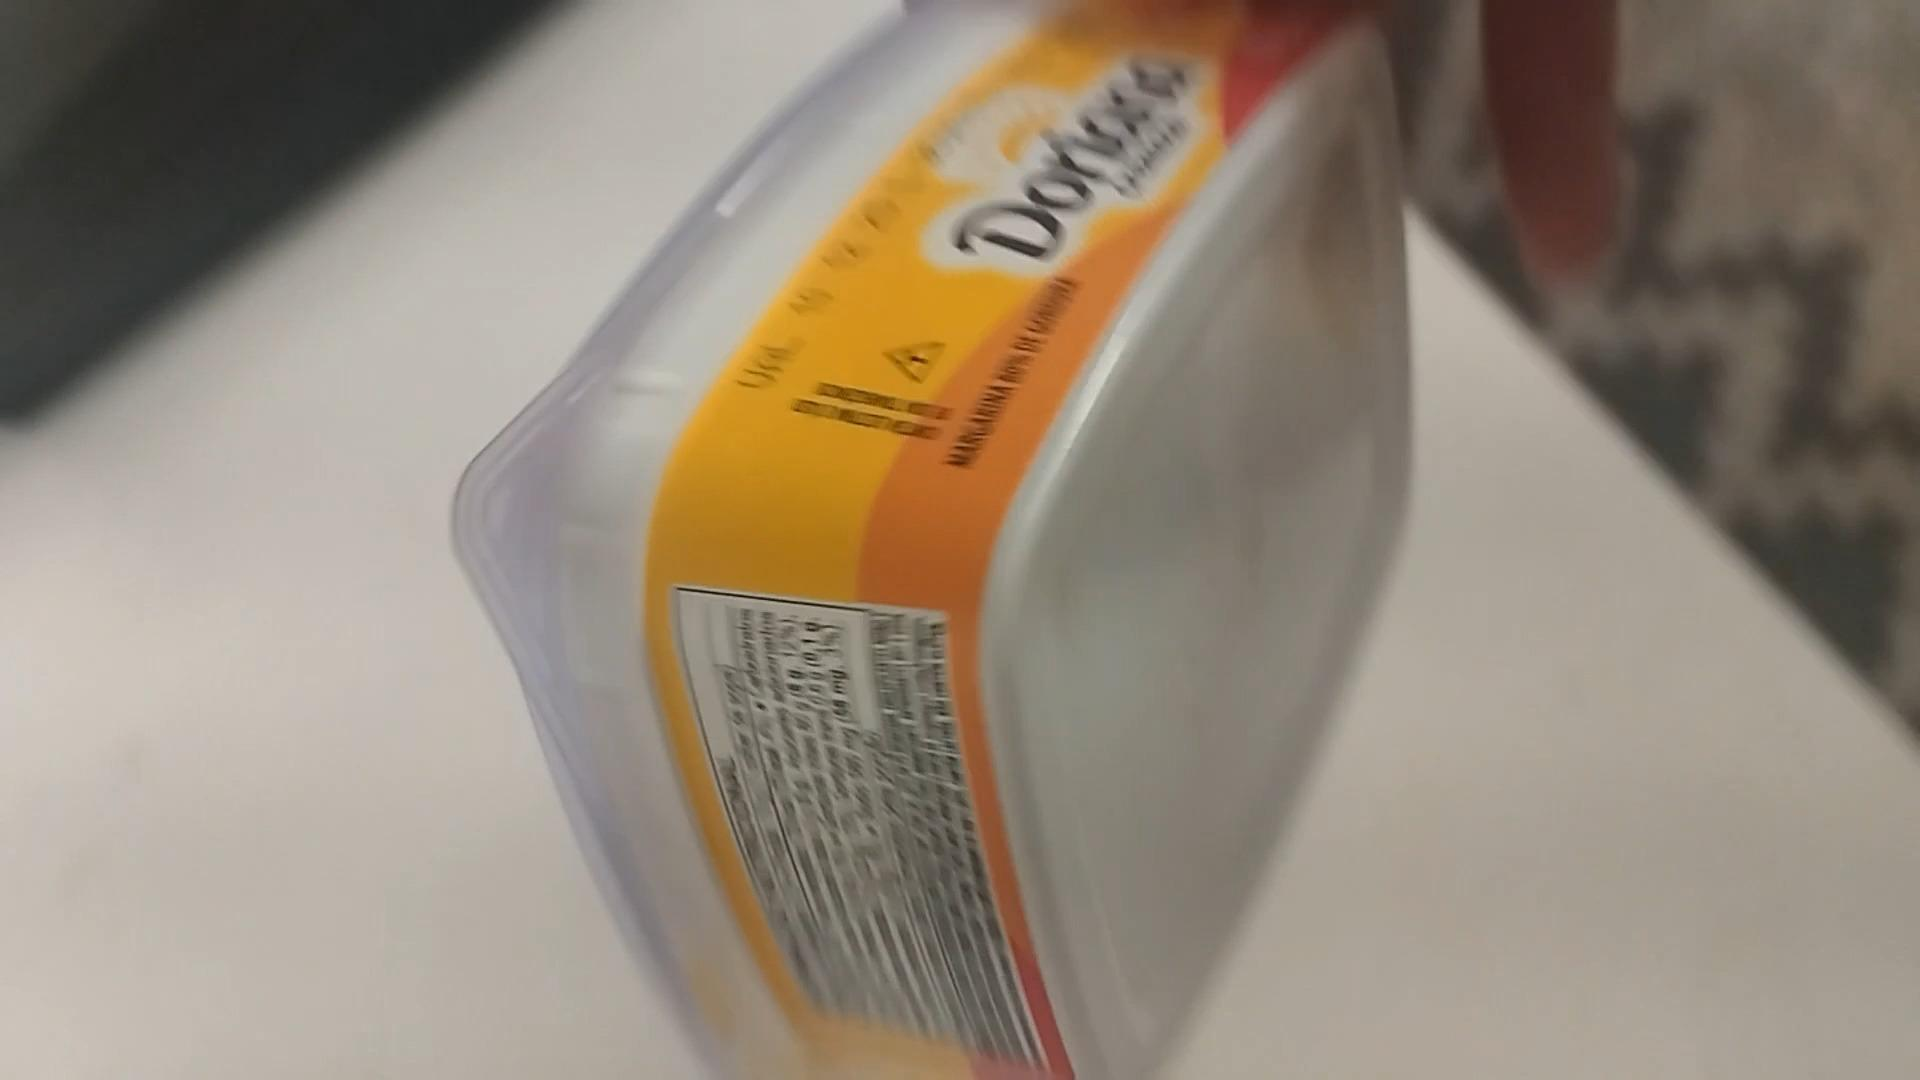butter: (458, 11, 1410, 1080)
